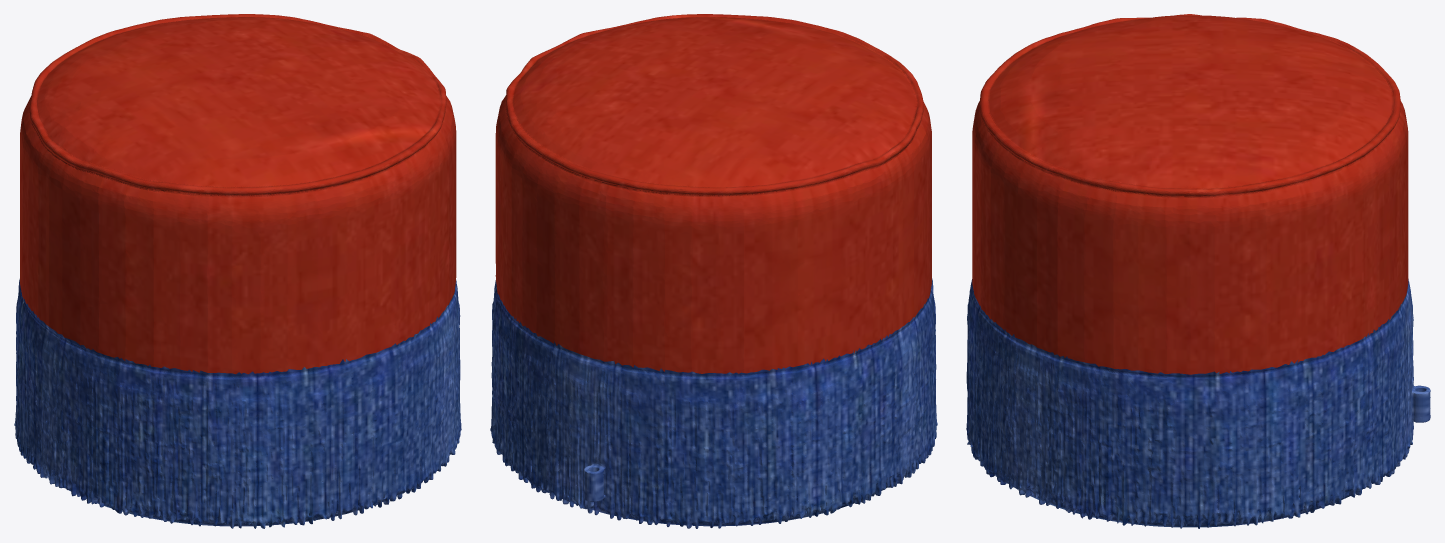
The model's file is Crimson_Blue_Fringe_Ottoman_textured.glb.
3 views of the same model, side by side, from view 1: azimuth 30°, elevation 25°; view 2: azimuth 150°, elevation 25°; view 3: azimuth 270°, elevation 25° (orthographic).
Size of the model in its own units: 0.0563 by 0.05 by 0.0581.
1 material, 1 textured.
